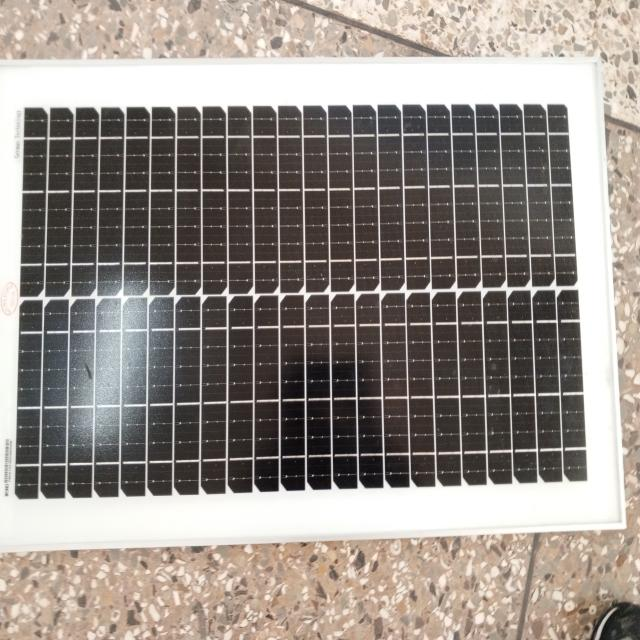Clean: (14, 80, 612, 512)
